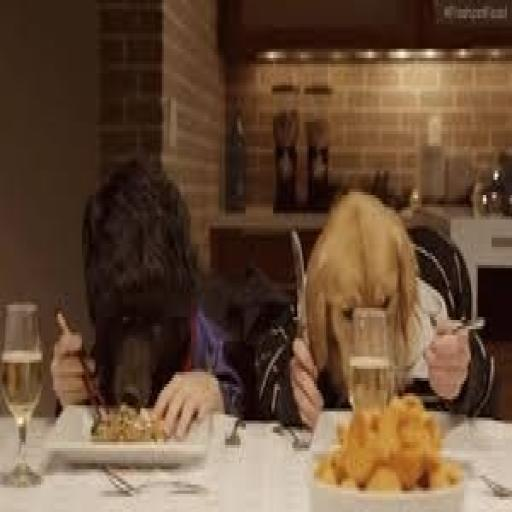eating: (48, 152, 495, 436)
